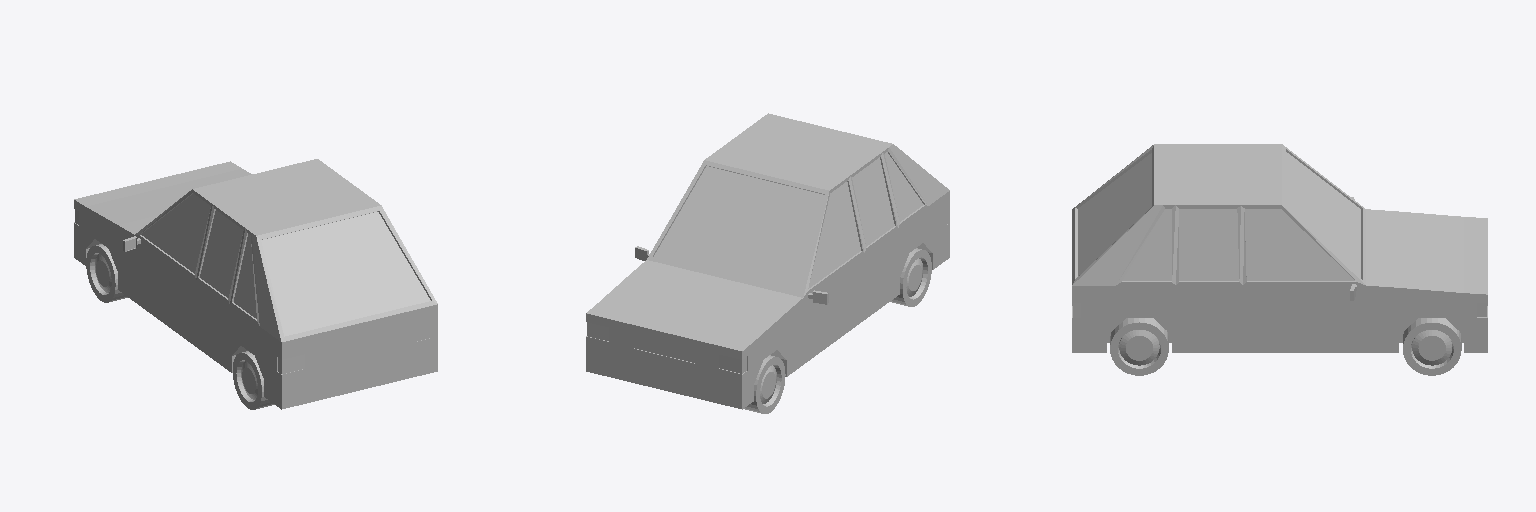
Rendered from car.obj.
3 renders of one model, left to right at view 1: azimuth 30°, elevation 25°; view 2: azimuth 150°, elevation 25°; view 3: azimuth 270°, elevation 25°, orthographic.
Parts seen in each view (by area): view 1: default; view 2: default; view 3: default.
Boxes of the visible parts, x1=… form: default: x1=74, y1=159, x2=437, y2=409; default: x1=586, y1=113, x2=949, y2=413; default: x1=1072, y1=144, x2=1487, y2=375.
Bounding box in the file's own units: 2.46 × 1.99 × 4.6.